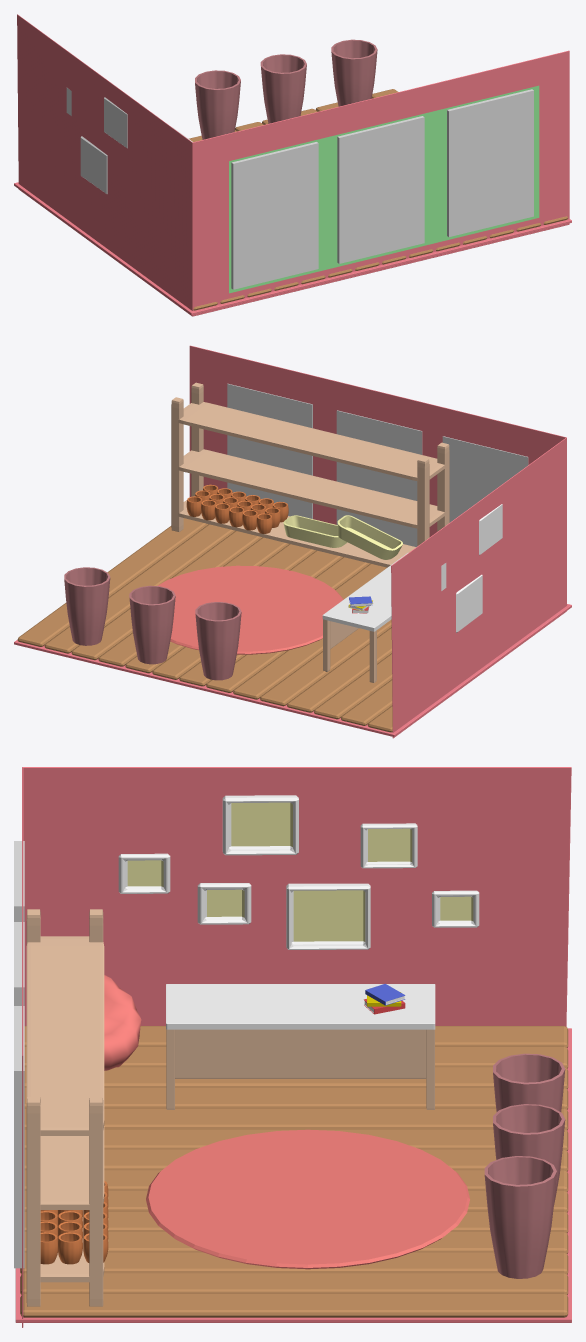
Rendered from Цветочный магазин внутри пустой.fbx.
The picture shows the model from 3 angles, top to bottom: view 1: azimuth 30°, elevation 25°; view 2: azimuth 150°, elevation 25°; view 3: azimuth 270°, elevation 25°; orthographic projection. The views are drawn at different scales.
Visible parts, largest first — view 1: Wall, Cube, Plane.414, Cylinder.052, Floor, Wood floor 1, Picture 2.004, Picture 2.003; view 2: Wall, Wood floor 1, Wall shelf.007, Cube, Carpet 1, Cylinder.052, Table 1, Cylinder.037, Plane.202, Floor, Picture 2.004, Picture 2.003; view 3: Wall, Wood floor 1, Carpet 1, Wall shelf.007, Table 1, Cylinder.052, Picture 2.004, Floor, Picture 2.003, Cube, Cylinder.037, Picture 2.005 (+5 smaller).
Boxes of the visible parts, x1,y1,x2,y2 form: Wall: [17, 14, 569, 316]; Cube: [231, 89, 533, 289]; Plane.414: [229, 85, 539, 293]; Cylinder.052: [195, 39, 377, 139]; Floor: [14, 109, 571, 315]; Wood floor 1: [189, 89, 567, 310]; Picture 2.004: [80, 136, 107, 194]; Picture 2.003: [104, 97, 127, 148]; Wall: [189, 345, 566, 738]; Wood floor 1: [17, 518, 392, 732]; Wall shelf.007: [171, 382, 449, 567]; Cube: [227, 383, 528, 546]; Carpet 1: [157, 565, 343, 654]; Cylinder.052: [64, 567, 241, 680]; Table 1: [322, 552, 408, 682]; Cylinder.037: [186, 484, 288, 533]; Plane.202: [283, 515, 402, 559]; Floor: [14, 604, 571, 737]; Picture 2.004: [456, 574, 482, 632]; Picture 2.003: [479, 504, 502, 555]; Wall: [22, 767, 571, 1327]; Wood floor 1: [20, 1026, 568, 1317]; Carpet 1: [146, 1129, 469, 1269]; Wall shelf.007: [26, 909, 104, 1306]; Table 1: [166, 984, 435, 1109]; Cylinder.052: [484, 1053, 565, 1278]; Picture 2.004: [286, 883, 370, 949]; Floor: [15, 1028, 571, 1322]; Picture 2.003: [222, 795, 298, 855]; Cube: [14, 841, 24, 1268]; Cylinder.037: [40, 1181, 108, 1264]; Picture 2.005: [360, 823, 417, 868].
Size of the model in its own units: 1608 by 703 by 1304.
